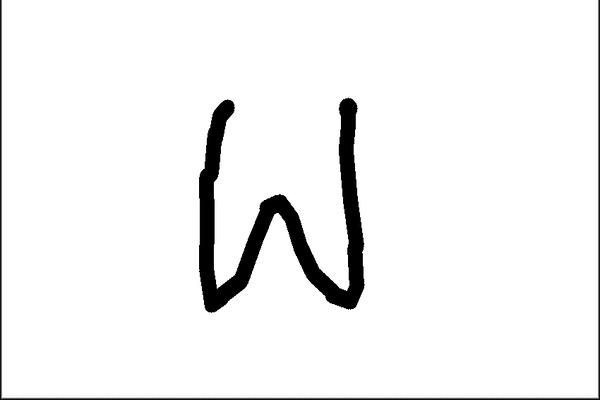w: (176, 82, 392, 323)
